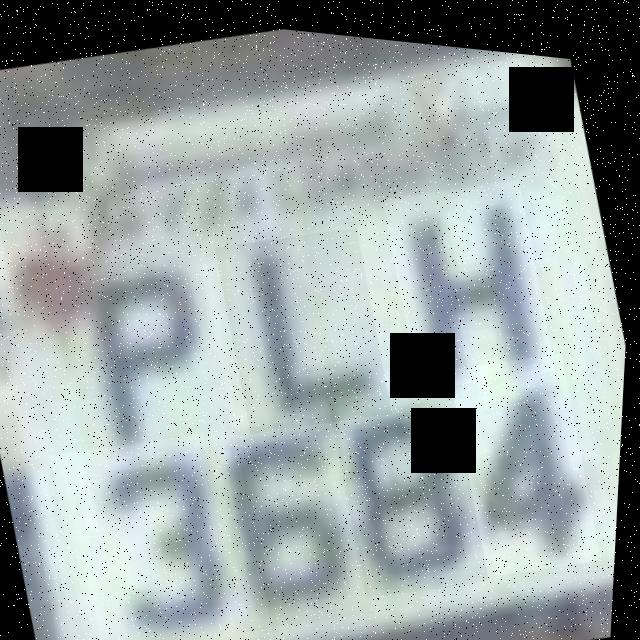3: (46, 408, 288, 640)
4: (443, 331, 615, 574)
6: (194, 395, 388, 638)
8: (324, 365, 502, 599)
H: (376, 156, 567, 391)
J: (209, 207, 403, 439)
P: (49, 233, 250, 479)
